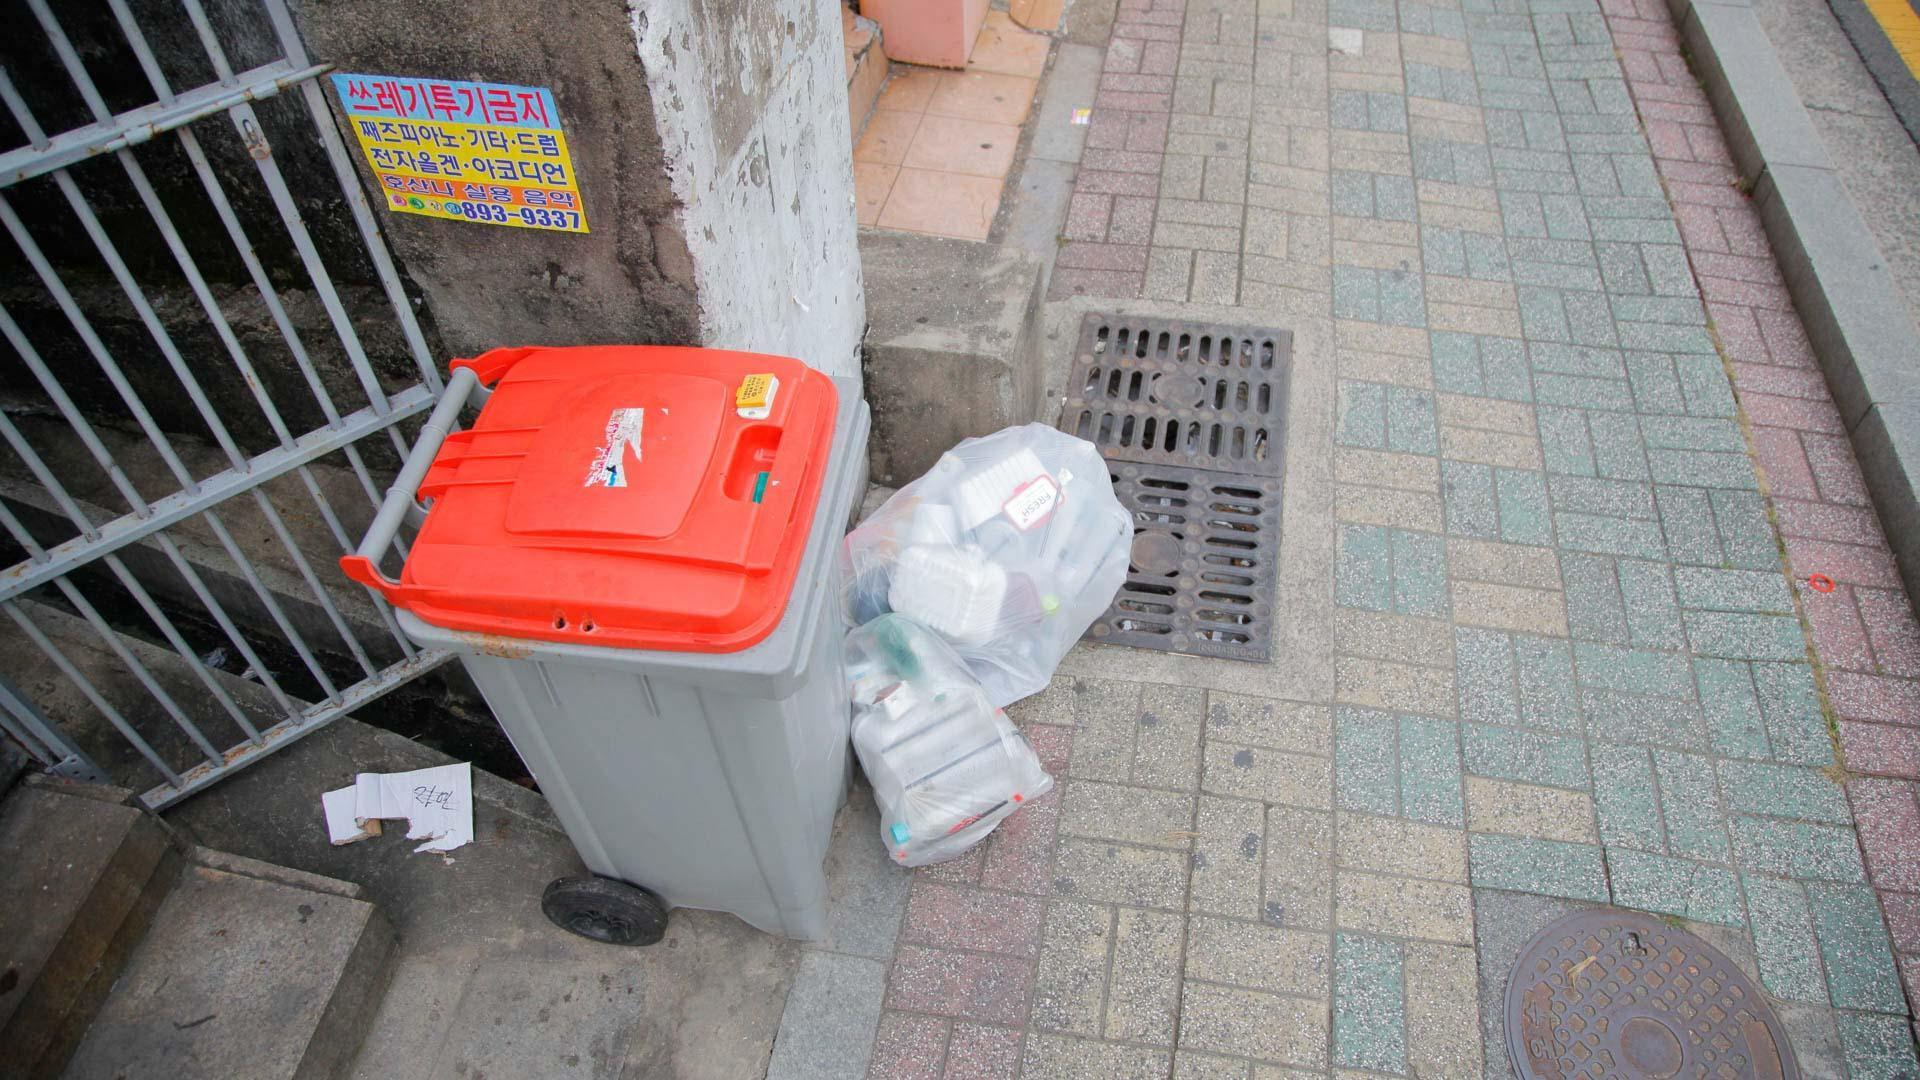white_bag: (836, 409, 1134, 713), (824, 609, 1063, 876)
